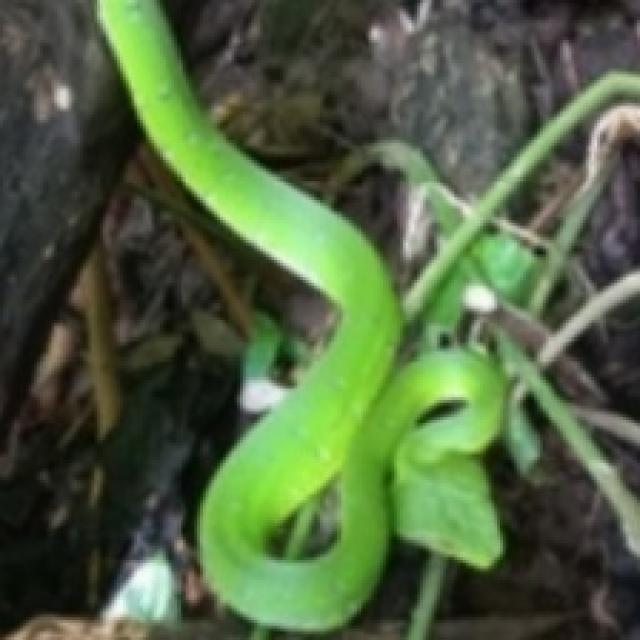north ph temple pitviper: (97, 0, 637, 629)
